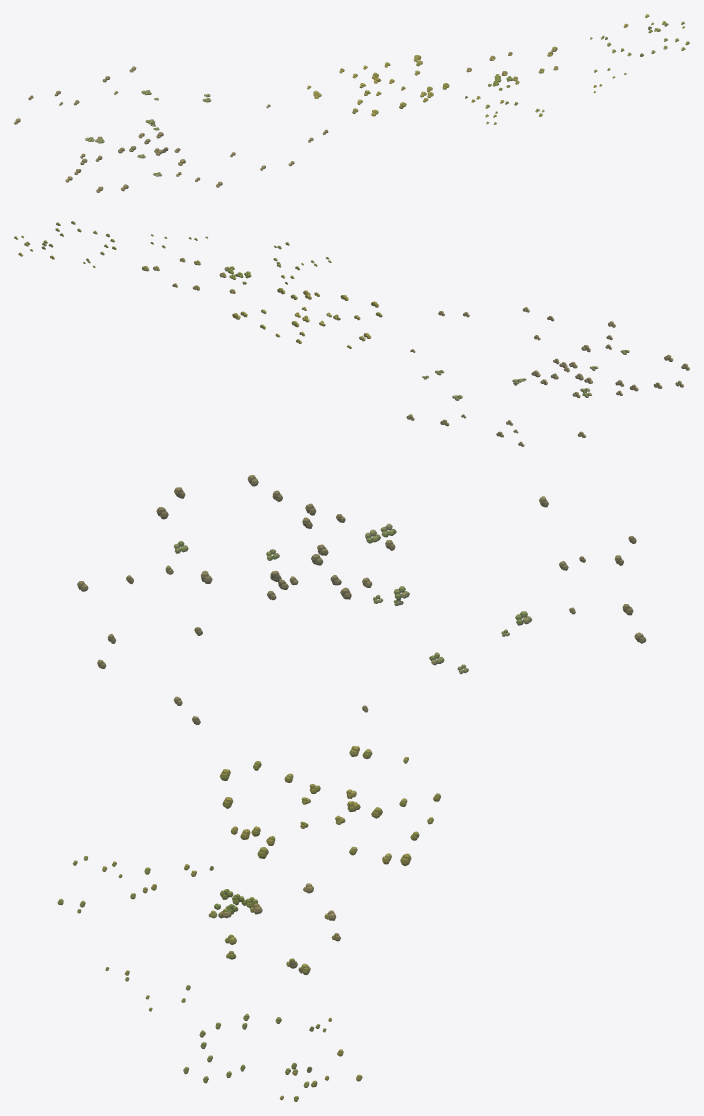
Rendered from season_summer.glb.
3 views of the same model, one above another, from view 1: azimuth 30°, elevation 25°; view 2: azimuth 150°, elevation 25°; view 3: azimuth 270°, elevation 25° (orthographic). The views are drawn at different scales.
Parts seen in each view (by area): view 1: no part large enough to name; view 2: no part large enough to name; view 3: Jahreszeit · summer · -7,0.
Boxes of the visible parts, left/top/right/bottom form: Jahreszeit · summer · -7,0: left=280, top=523, right=396, bottom=589.
Bounding box in the file's own units: 262 × 4.78 × 106.
